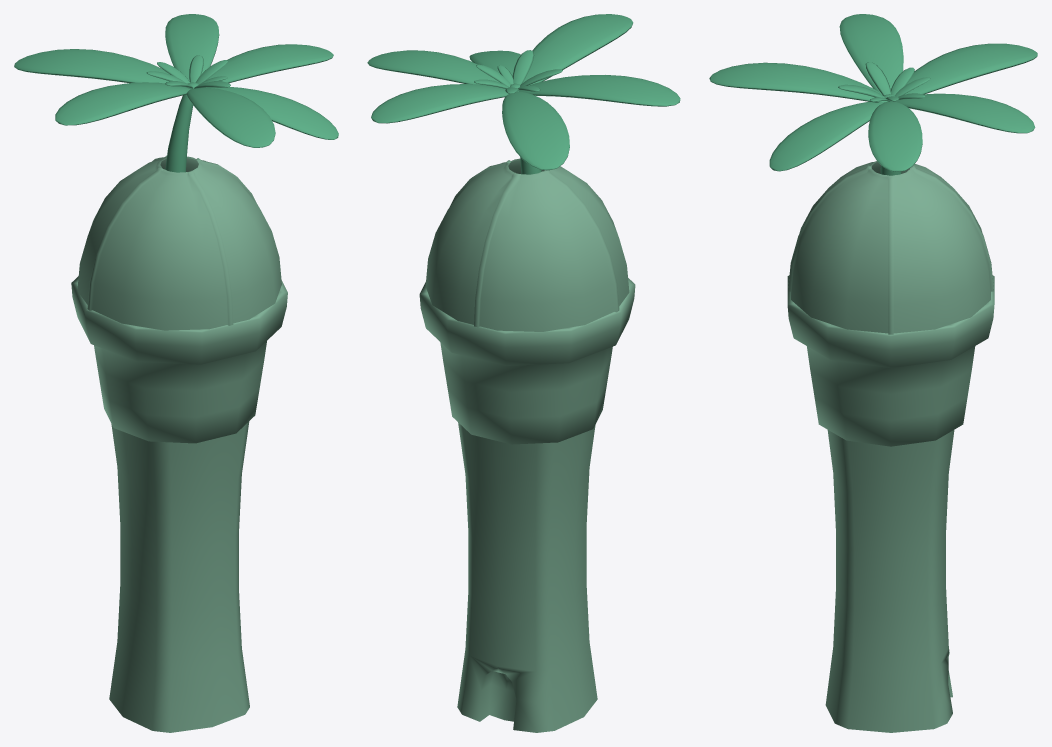
Rendered from SM_Building_Flower_A.fbx.
The picture shows the model from 3 angles, left to right: view 1: azimuth 30°, elevation 25°; view 2: azimuth 150°, elevation 25°; view 3: azimuth 270°, elevation 25°; orthographic projection.
Visible parts, largest first — view 1: polySurface11; view 2: polySurface11; view 3: polySurface11.
Boxes of the visible parts, <box> form: polySurface11: <box>14,14,338,732</box>; polySurface11: <box>367,14,680,732</box>; polySurface11: <box>709,14,1037,732</box>.
Bounding box in the file's own units: 583 × 1209 × 568.
